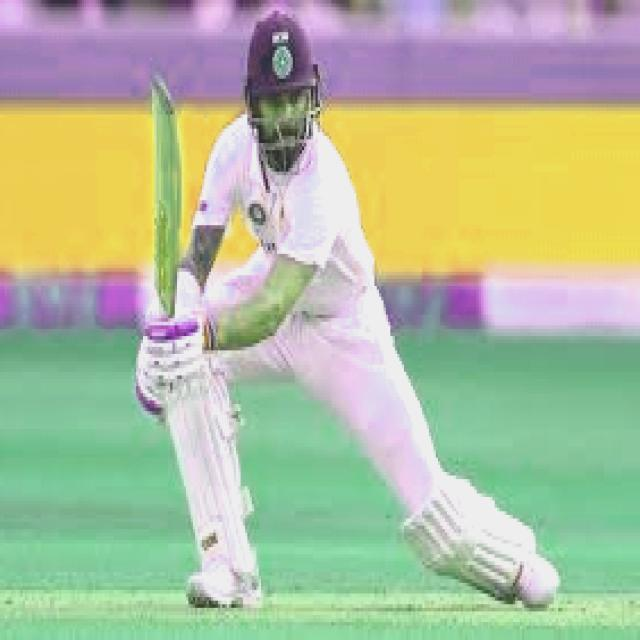bat: (150, 73, 186, 315)
toe: (149, 73, 180, 112)
